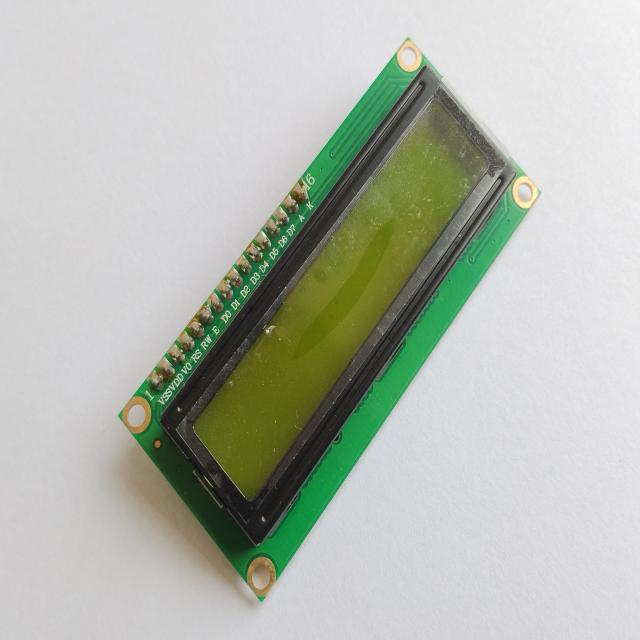lcd: (117, 35, 540, 602)
